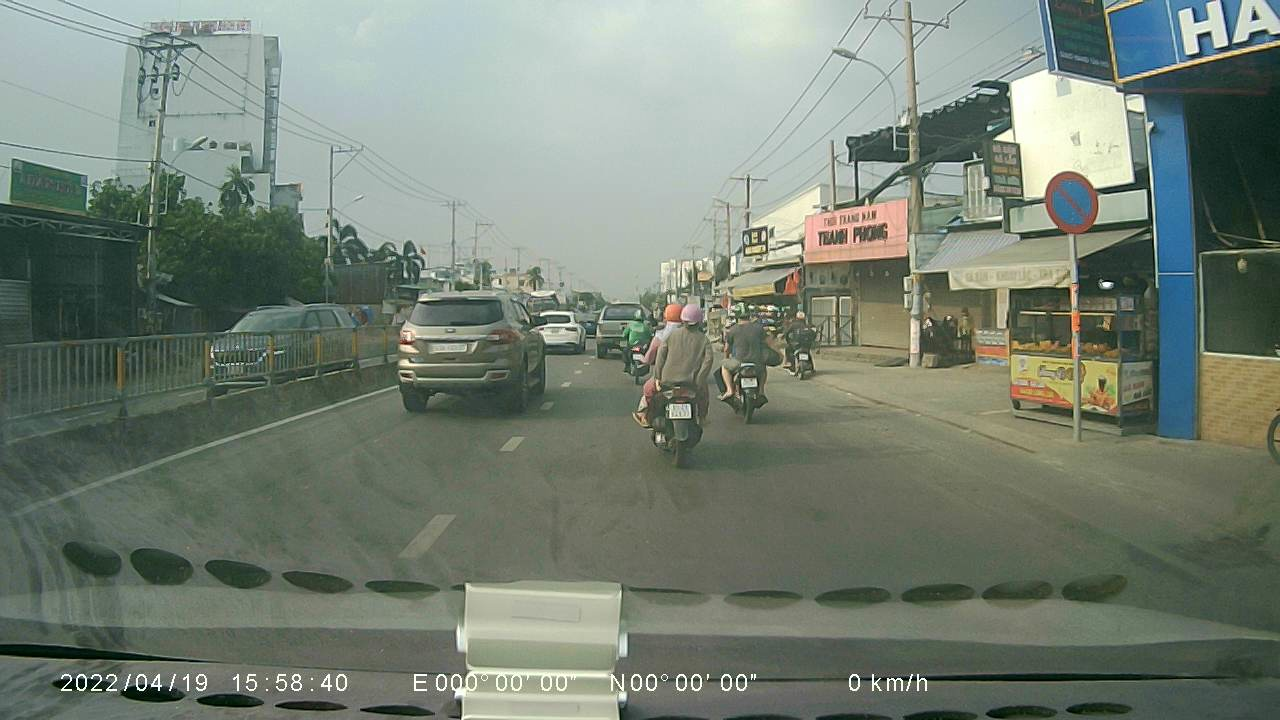Cam do xe: (1041, 164, 1107, 234)
